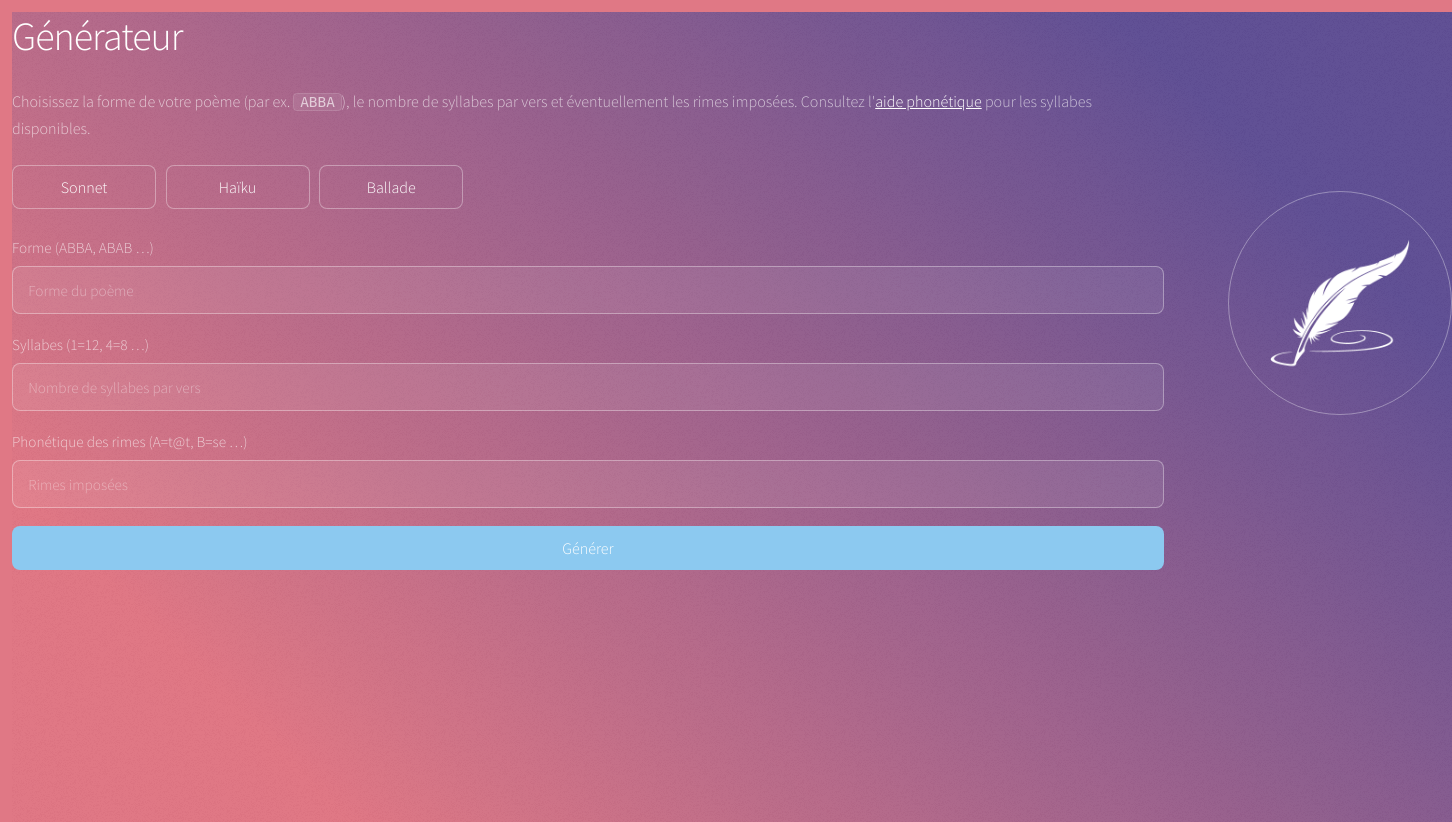
Test: HomePage › affiche les erreurs renvoyées par l'API
This screenshot has width=1452, height=822.
Type "X" into the field labelled "Forme (ABBA, ABAB …)" at (588, 290), box [12,266,1164,314]
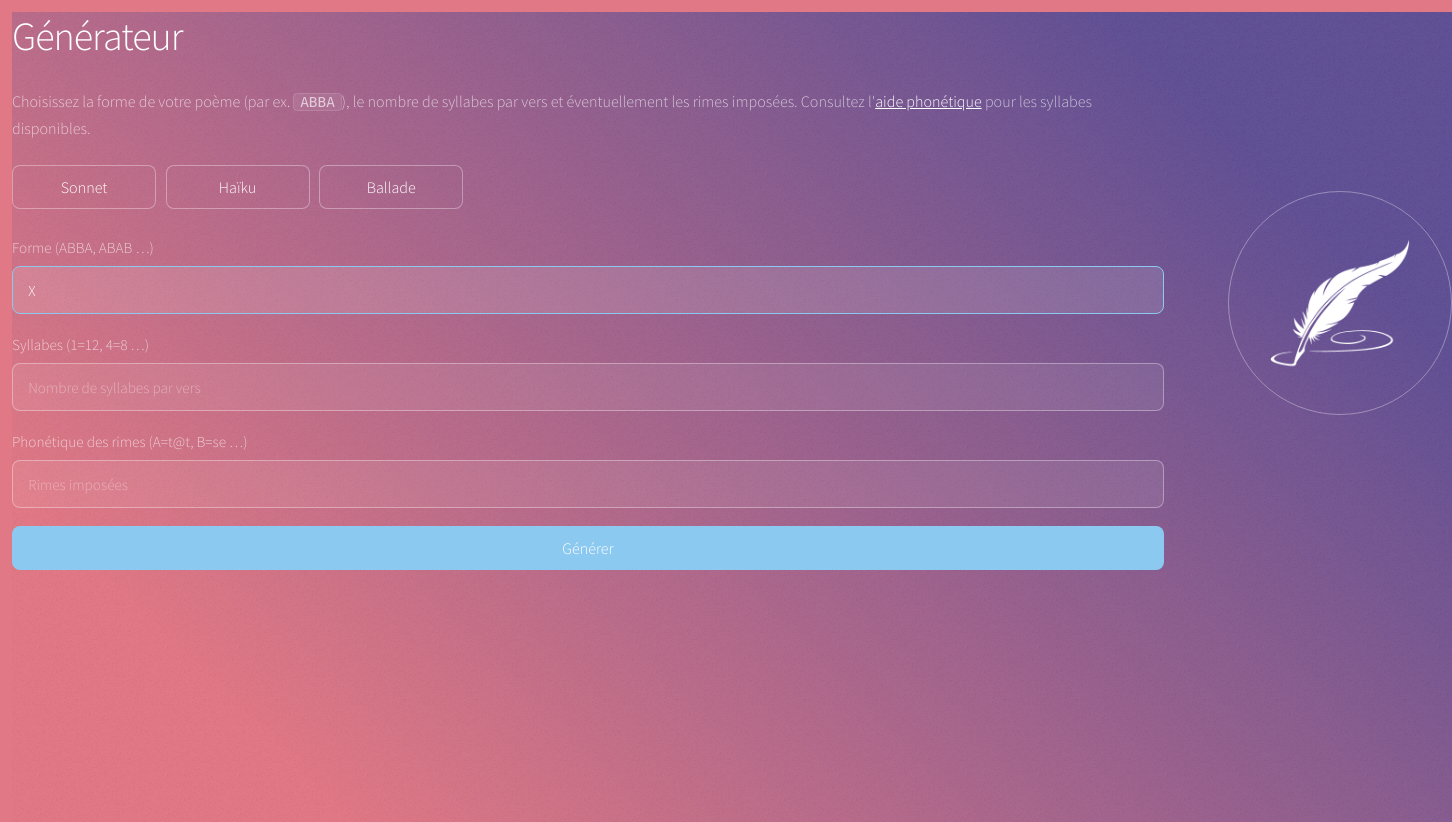
Click the button "Générer" at (588, 548), box [12,526,1164,570]
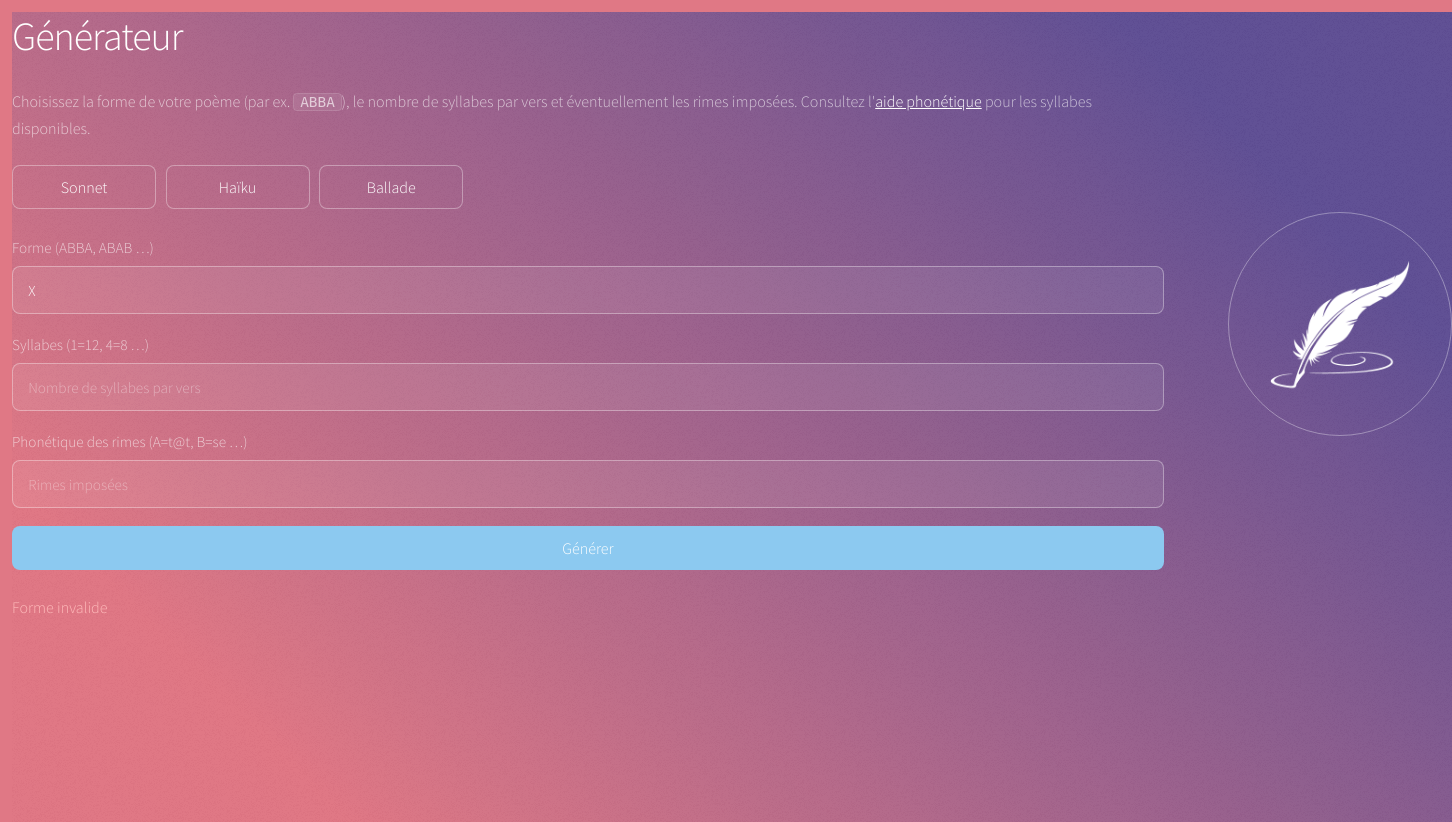
Now the text "Forme invalide" is shown, box [12,597,108,617]
